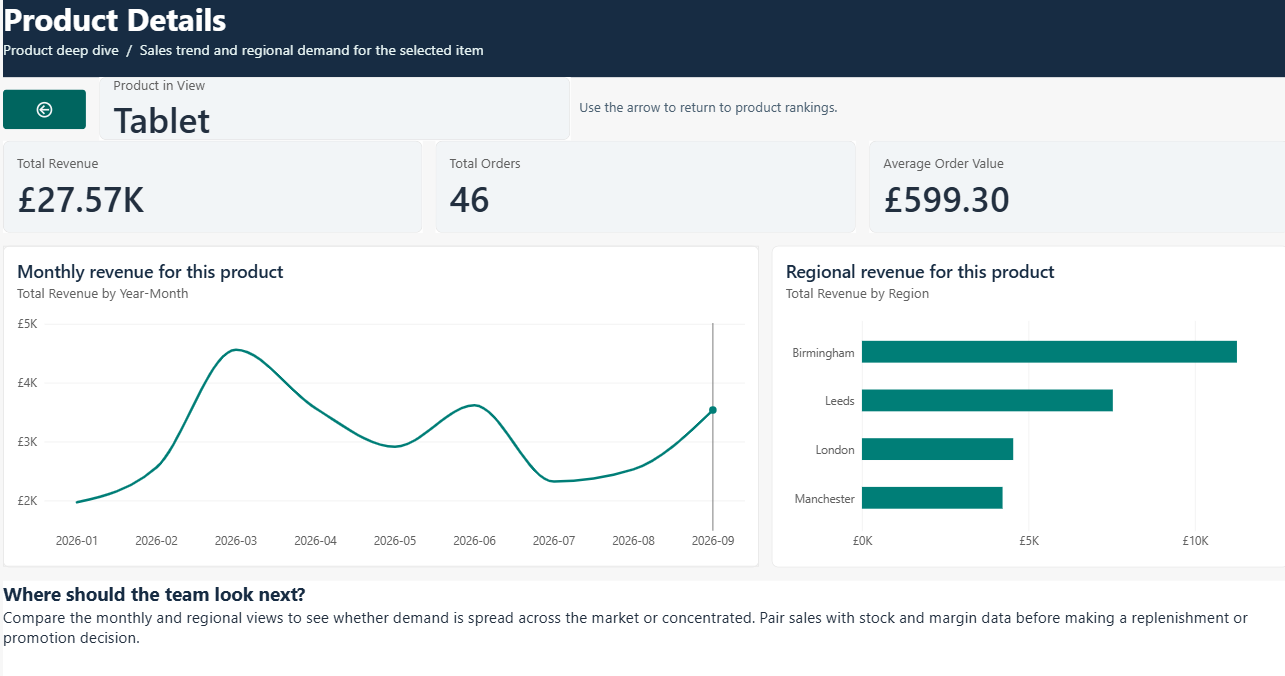

This screenshot's page, from the dashboard's own definition file:
{"tool":"powerbi","page":{"name":"Product Details","canvas":[1600,900],"ordinal":3},"visuals":[{"type":"textbox","box":[24,20,1552,95],"z":0},{"type":"actionButton","box":[24,129,100,48],"z":1000},{"type":"cardVisual","fields":{"Data":["Sales Data.Product in View"]},"box":[140.2,114.6,568.5,76.9],"z":2000},{"type":"textbox","box":[720,138,856,32],"z":3000},{"type":"cardVisual","fields":{"Data":["Sales Data.Total Revenue"]},"box":[24,191,506,111],"z":4000},{"type":"cardVisual","fields":{"Data":["Sales Data.Total Orders"]},"box":[546,191,507,111],"z":5000},{"type":"cardVisual","fields":{"Data":["Sales Data.Average Order Value"]},"box":[1069,191,507,111],"z":6000},{"type":"lineChart","title":"Monthly revenue for this product","fields":{"Category":["Date Table.Year-Month"],"Y":["Sales Data.Total Revenue"]},"box":[24,318,912,388],"z":7000},{"type":"barChart","title":"Regional revenue for this product","fields":{"Category":["Sales Data.Region"],"Y":["Sales Data.Total Revenue"]},"box":[952,318,624,388],"z":8000},{"type":"textbox","box":[24,723,1552,118],"z":9000},{"type":"textbox","box":[24,856,1552,30],"z":10000}]}

Visuals, with their boxes on the page's 1600x900 design canvas (x1, y1, x2, y2). These are canvas units, not pixel positions in the 1285x676 screenshot, which may show the page scaled, cropped or inside an application window:
textbox: rect(24, 20, 1576, 115)
actionButton: rect(24, 129, 124, 177)
cardVisual - Sales Data.Product in View: rect(140, 115, 709, 192)
textbox: rect(720, 138, 1576, 170)
cardVisual - Sales Data.Total Revenue: rect(24, 191, 530, 302)
cardVisual - Sales Data.Total Orders: rect(546, 191, 1053, 302)
cardVisual - Sales Data.Average Order Value: rect(1069, 191, 1576, 302)
"Monthly revenue for this product" lineChart: rect(24, 318, 936, 706)
"Regional revenue for this product" barChart: rect(952, 318, 1576, 706)
textbox: rect(24, 723, 1576, 841)
textbox: rect(24, 856, 1576, 886)
